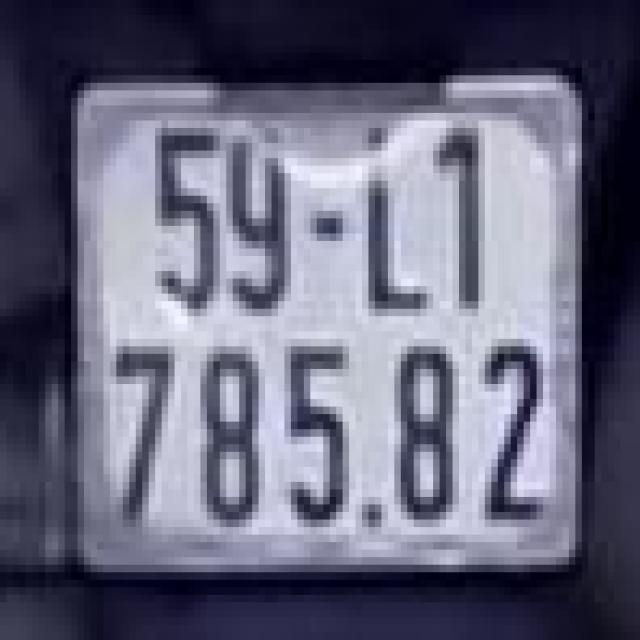1: (433, 120, 498, 316)
2: (478, 324, 543, 527)
5: (139, 117, 223, 320), (275, 323, 352, 534)
7: (104, 335, 174, 531)
8: (191, 335, 268, 538), (381, 332, 459, 520)
9: (220, 109, 297, 320)
L: (349, 101, 427, 312)
